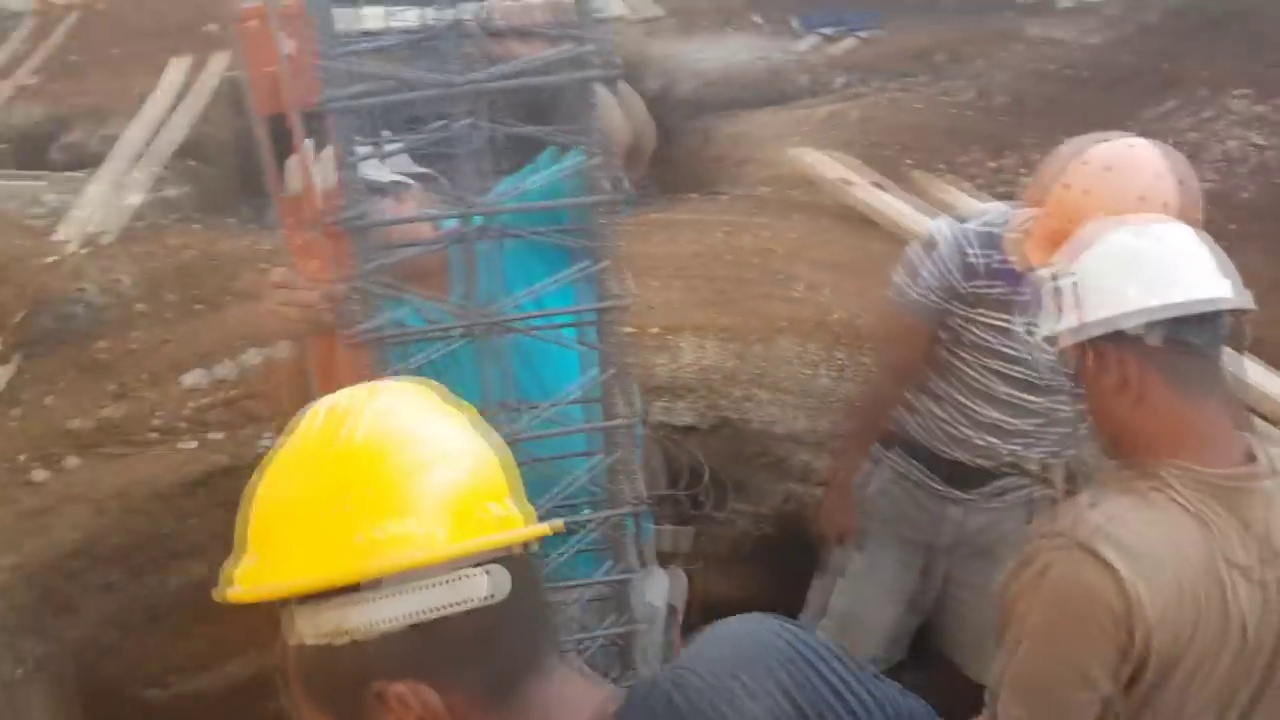helmet: (223, 380, 547, 619), (1028, 221, 1264, 374), (1018, 120, 1209, 263)
helmet-off: (256, 120, 469, 306)
helmet-on: (214, 362, 638, 718), (1025, 232, 1264, 487), (986, 124, 1208, 274)
person: (214, 347, 945, 717), (247, 8, 696, 569), (814, 114, 1208, 707), (980, 231, 1280, 720)
